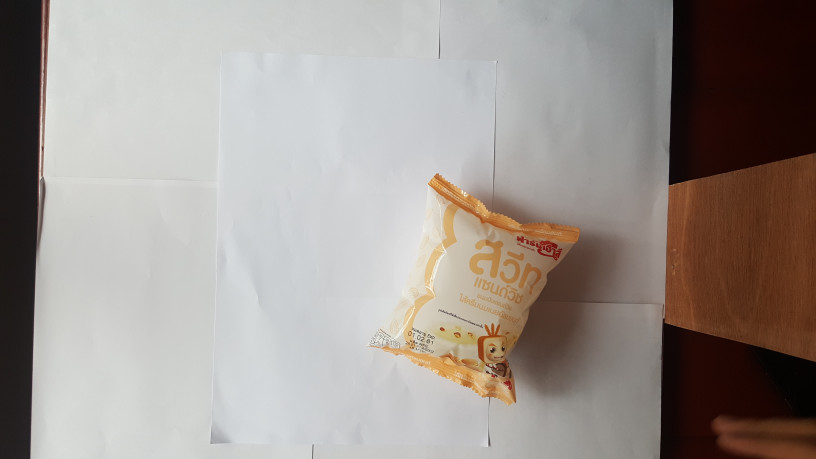farmhouse-sweetsandwich-almond: (365, 170, 583, 412)
